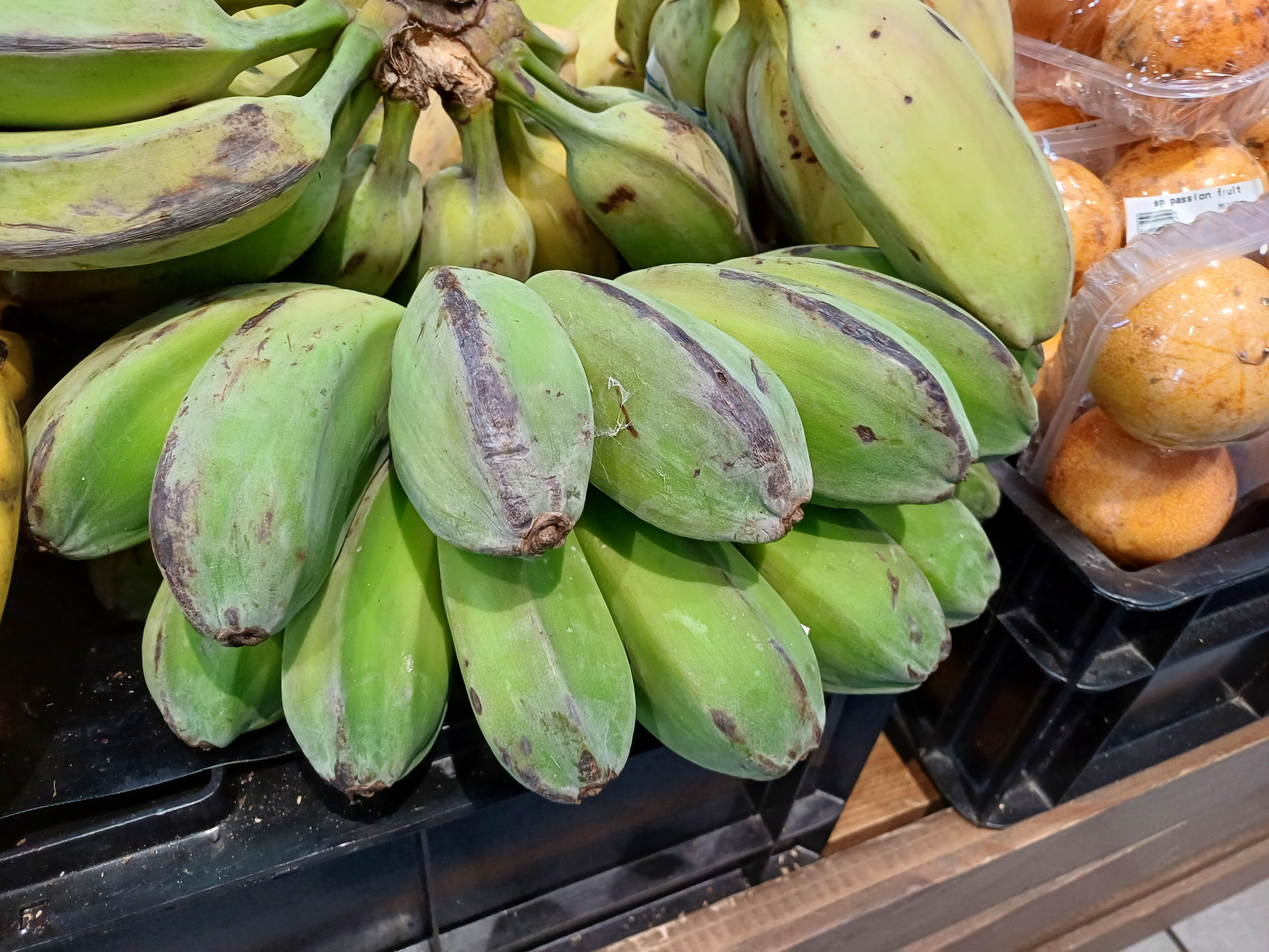underripe: (26, 245, 1037, 802), (0, 0, 752, 306), (616, 0, 1072, 348)
